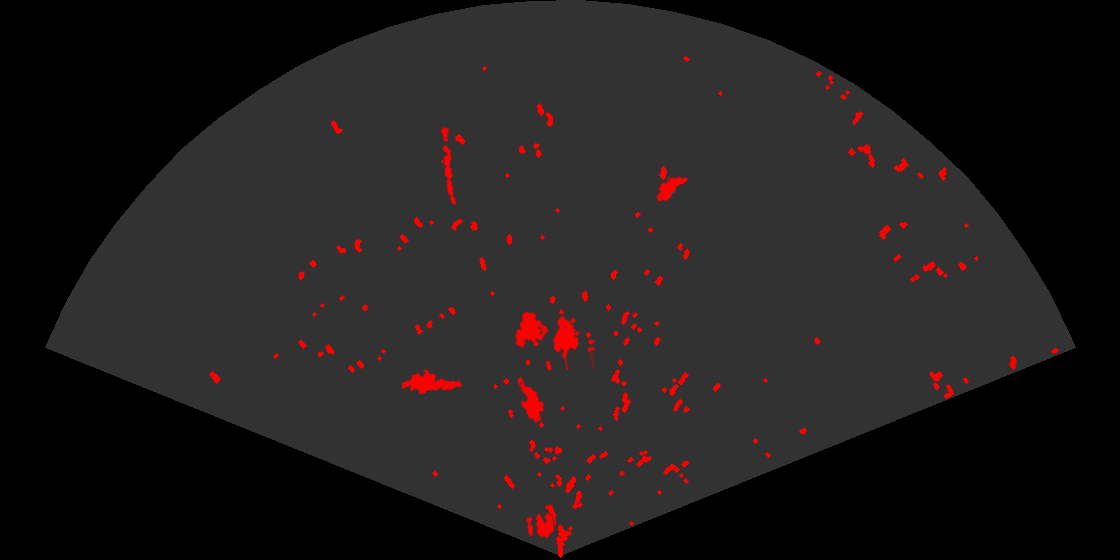AUV: (518, 381, 546, 425), (655, 175, 690, 203)
ball: (525, 511, 556, 540)
cage: (513, 307, 595, 370)
chain: (439, 125, 458, 206)
frogman: (402, 367, 464, 396)
